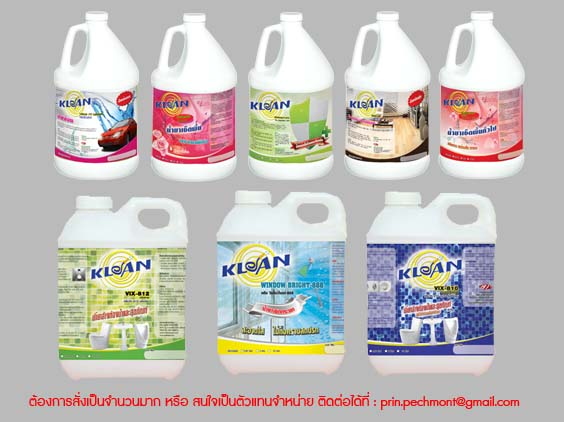Cleaning_solution: (360, 188, 501, 380), (53, 192, 192, 384), (213, 188, 349, 379), (243, 8, 337, 183), (341, 7, 434, 182), (437, 7, 529, 182), (49, 8, 141, 182), (147, 11, 239, 184)
